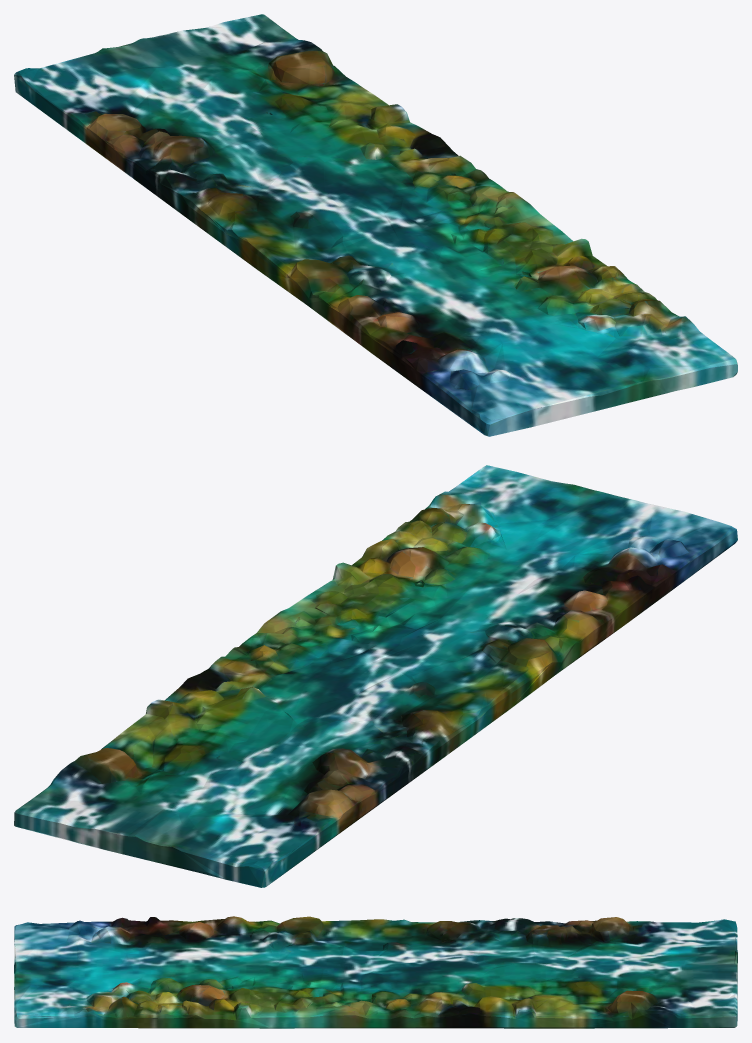
The model's file is streamTile.glb.
3 renders of one model, top to bottom at view 1: azimuth 30°, elevation 25°; view 2: azimuth 150°, elevation 25°; view 3: azimuth 270°, elevation 25°, orthographic. The views are drawn at different scales.
Parts seen in each view (by area): view 1: geometry_0; view 2: geometry_0; view 3: geometry_0.
Boxes of the visible parts, x1,y1,x2,y2 form: geometry_0: [14, 14, 737, 436]; geometry_0: [14, 465, 737, 887]; geometry_0: [14, 916, 737, 1028].
Bounding box in the file's own units: 0.3097 × 0.0389 × 0.9991.
Materials: 1 (1 with a texture image).
